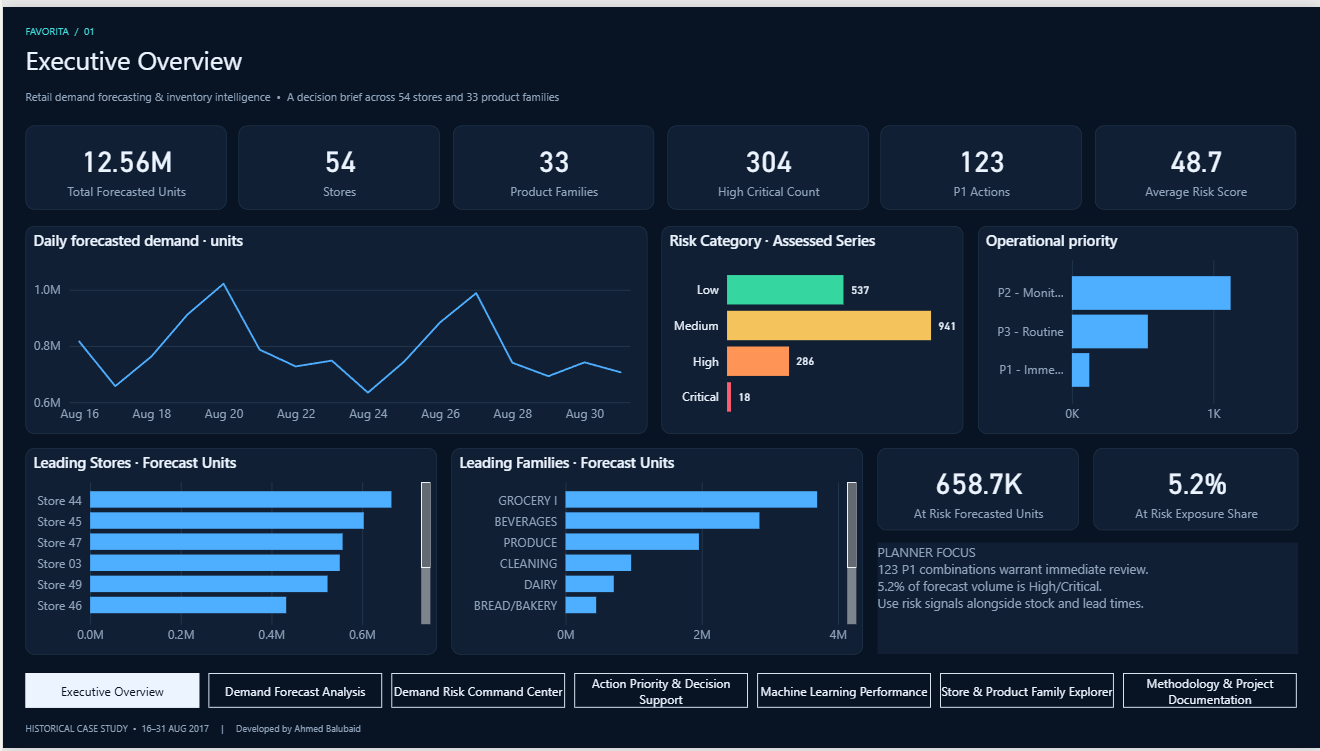

Layout of this report page (visuals, bound fields, positions):
{"tool":"powerbi","page":{"name":"Executive Overview","canvas":[1440,810],"ordinal":0},"visuals":[{"type":"textbox","box":[24,14,300,24],"z":1},{"type":"textbox","box":[24,40,1370,44],"z":2},{"type":"textbox","box":[24,87,1370,30],"z":3},{"type":"textbox","box":[24,777,1040,22],"z":4},{"type":"pageNavigator","box":[24,729,1392,38],"z":5},{"type":"card","fields":{"Values":["FactForecast.Total Forecasted Units"]},"box":[24,130,220,92],"z":6},{"type":"card","fields":{"Values":["FactForecast.Stores"]},"box":[258,130,220,92],"z":7},{"type":"card","fields":{"Values":["FactForecast.Product Families"]},"box":[492,130,220,92],"z":8},{"type":"card","fields":{"Values":["FactForecast.High Critical Count"]},"box":[726,130,220,92],"z":9},{"type":"card","fields":{"Values":["FactForecast.P1 Actions"]},"box":[960,130,220,92],"z":10},{"type":"card","fields":{"Values":["FactForecast.Average Risk Score"]},"box":[1194,130,220,92],"z":11},{"type":"lineChart","title":"Daily forecasted demand · units","fields":{"Category":["DimDate.date"],"Y":["FactForecast.Total Forecasted Units"]},"box":[24,239,680,227],"z":12},{"type":"clusteredBarChart","title":"Risk Category · Assessed Series","fields":{"Category":["DimRiskCategory.risk_category"],"Y":["FactForecast.Combinations"]},"box":[720,239,330,227],"z":13},{"type":"clusteredBarChart","title":"Operational priority","fields":{"Category":["DimPriority.action_priority"],"Y":["FactForecast.Combinations"]},"box":[1066,239,350,227],"z":14},{"type":"clusteredBarChart","title":"Leading Stores · Forecast Units","fields":{"Category":["DimStore.store_label"],"Y":["FactForecast.Top 10 Store Forecast"]},"box":[24,482,450,226],"z":15},{"type":"clusteredBarChart","title":"Leading Families · Forecast Units","fields":{"Category":["DimFamily.family"],"Y":["FactForecast.Top 10 Family Forecast"]},"box":[490,482,450,226],"z":16},{"type":"card","fields":{"Values":["FactForecast.At Risk Forecasted Units"]},"box":[956,482,220,90],"z":17},{"type":"card","fields":{"Values":["FactForecast.At Risk Exposure Share"]},"box":[1192,482,224,90],"z":18},{"type":"textbox","box":[956,585,460,122],"z":19}]}

Visuals, with their boxes in screenshot pixels (x1, y1, x2, y2), scaled from the page's 1440x810 canvas onto the 1320x751 screenshot:
textbox: x1=22 y1=13 x2=297 y2=35
textbox: x1=22 y1=37 x2=1278 y2=78
textbox: x1=22 y1=81 x2=1278 y2=108
textbox: x1=22 y1=720 x2=975 y2=741
pageNavigator: x1=22 y1=676 x2=1298 y2=711
card - FactForecast.Total Forecasted Units: x1=22 y1=121 x2=224 y2=206
card - FactForecast.Stores: x1=236 y1=121 x2=438 y2=206
card - FactForecast.Product Families: x1=451 y1=121 x2=653 y2=206
card - FactForecast.High Critical Count: x1=666 y1=121 x2=867 y2=206
card - FactForecast.P1 Actions: x1=880 y1=121 x2=1082 y2=206
card - FactForecast.Average Risk Score: x1=1094 y1=121 x2=1296 y2=206
"Daily forecasted demand · units" lineChart: x1=22 y1=222 x2=645 y2=432
"Risk Category · Assessed Series" clusteredBarChart: x1=660 y1=222 x2=962 y2=432
"Operational priority" clusteredBarChart: x1=977 y1=222 x2=1298 y2=432
"Leading Stores · Forecast Units" clusteredBarChart: x1=22 y1=447 x2=434 y2=656
"Leading Families · Forecast Units" clusteredBarChart: x1=449 y1=447 x2=862 y2=656
card - FactForecast.At Risk Forecasted Units: x1=876 y1=447 x2=1078 y2=530
card - FactForecast.At Risk Exposure Share: x1=1093 y1=447 x2=1298 y2=530
textbox: x1=876 y1=542 x2=1298 y2=656
